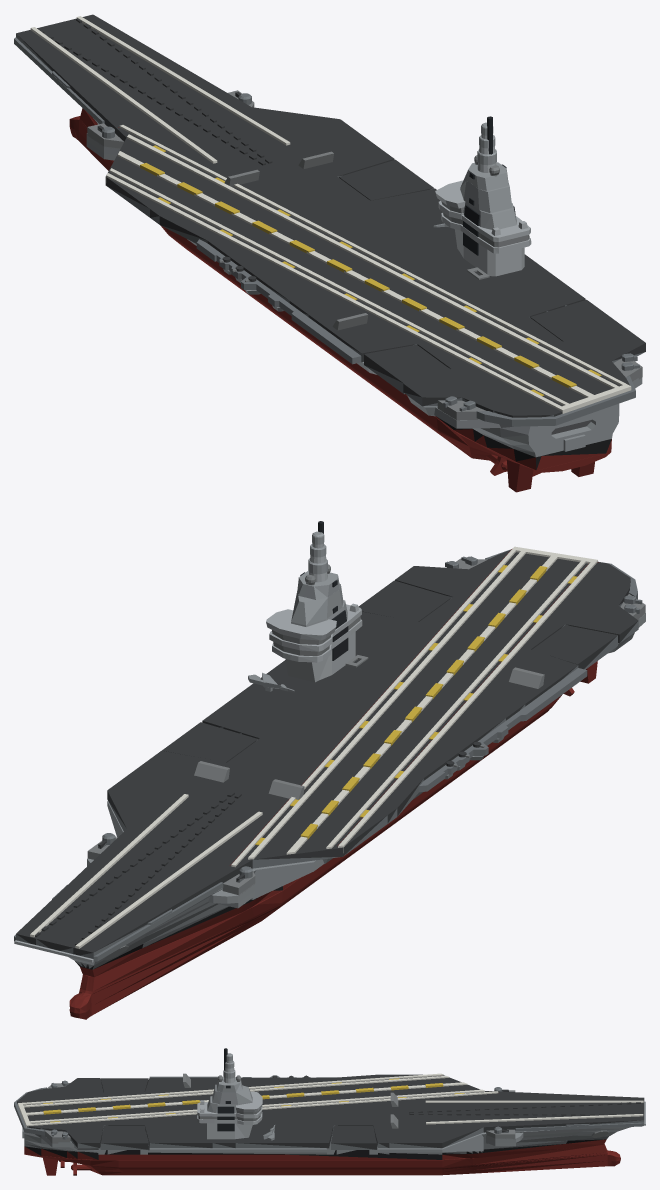
File: fujian.glb
3 renders of one model, top to bottom at view 1: azimuth 30°, elevation 25°; view 2: azimuth 150°, elevation 25°; view 3: azimuth 270°, elevation 25°, orthographic. The views are drawn at different scales.
Parts seen in each view (by area): view 1: S_fujian__Deck_1, S_fujian__LineW_1, S_fujian__Bottom_1, S_fujian__HullD_1, S_fujian__Hull_1, S_fujian__Island_1, S_fujian__Metal_1, S_fujian__Island2_1, S_fujian__LineY_1, S_fujian__Boot_1, S_fujian__Dark_1; view 2: S_fujian__Deck_1, S_fujian__LineW_1, S_fujian__Bottom_1, S_fujian__HullD_1, S_fujian__Hull_1, S_fujian__Island_1, S_fujian__Metal_1, S_fujian__Island2_1, S_fujian__LineY_1; view 3: S_fujian__Deck_1, S_fujian__Bottom_1, S_fujian__LineW_1, S_fujian__Hull_1, S_fujian__HullD_1, S_fujian__Island_1, S_fujian__Boot_1, S_fujian__Metal_1, S_fujian__Island2_1, S_fujian__LineY_1, S_fujian__Dark_1.
Part boxes in pixels (x1,y1,x2,y2): S_fujian__Deck_1: (16,14,645,417); S_fujian__LineW_1: (30,16,631,413); S_fujian__Bottom_1: (69,108,611,492); S_fujian__HullD_1: (14,34,644,426); S_fujian__Hull_1: (86,118,642,457); S_fujian__Island_1: (435,134,531,276); S_fujian__Metal_1: (87,90,642,420); S_fujian__Island2_1: (460,122,516,229); S_fujian__LineY_1: (140,145,601,396); S_fujian__Boot_1: (439,418,611,469); S_fujian__Dark_1: (463,116,515,255); S_fujian__Deck_1: (16,549,638,955); S_fujian__LineW_1: (30,546,597,948); S_fujian__Bottom_1: (69,661,597,1019); S_fujian__HullD_1: (14,549,642,961); S_fujian__Hull_1: (68,613,645,969); S_fujian__Island_1: (14,543,362,962); S_fujian__Metal_1: (87,558,645,960); S_fujian__Island2_1: (291,531,347,626); S_fujian__LineY_1: (255,565,577,845); S_fujian__Deck_1: (17,1074,644,1149); S_fujian__Bottom_1: (24,1139,620,1175); S_fujian__LineW_1: (18,1073,643,1127); S_fujian__Hull_1: (22,1125,630,1154); S_fujian__HullD_1: (14,1075,644,1149); S_fujian__Island_1: (197,1060,645,1139); S_fujian__Boot_1: (25,1139,605,1159); S_fujian__Metal_1: (44,1073,608,1143); S_fujian__Island2_1: (207,1053,252,1113); S_fujian__LineY_1: (43,1078,464,1122); S_fujian__Dark_1: (217,1048,234,1131).
Size of the model in its own units: 163 by 152 by 620.
